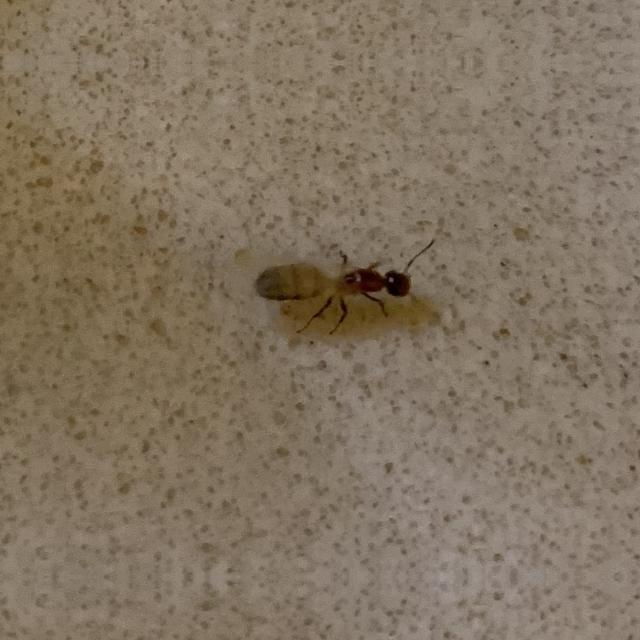Colobopsis: (253, 240, 442, 332)
